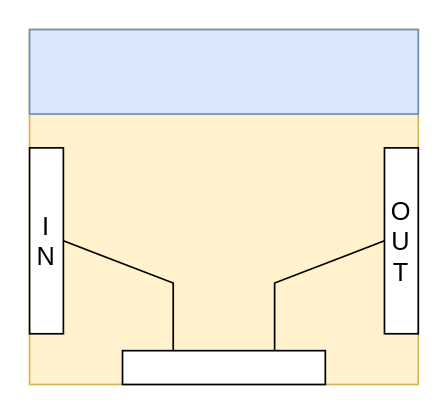
This 448x414 diagram has some shape labels left out. Here are the shapes that lost their labels. From the top down, the centre of each, then its label:
At point (223, 71): "UsbPort .vhd".
At point (223, 366): "IO PORT".
